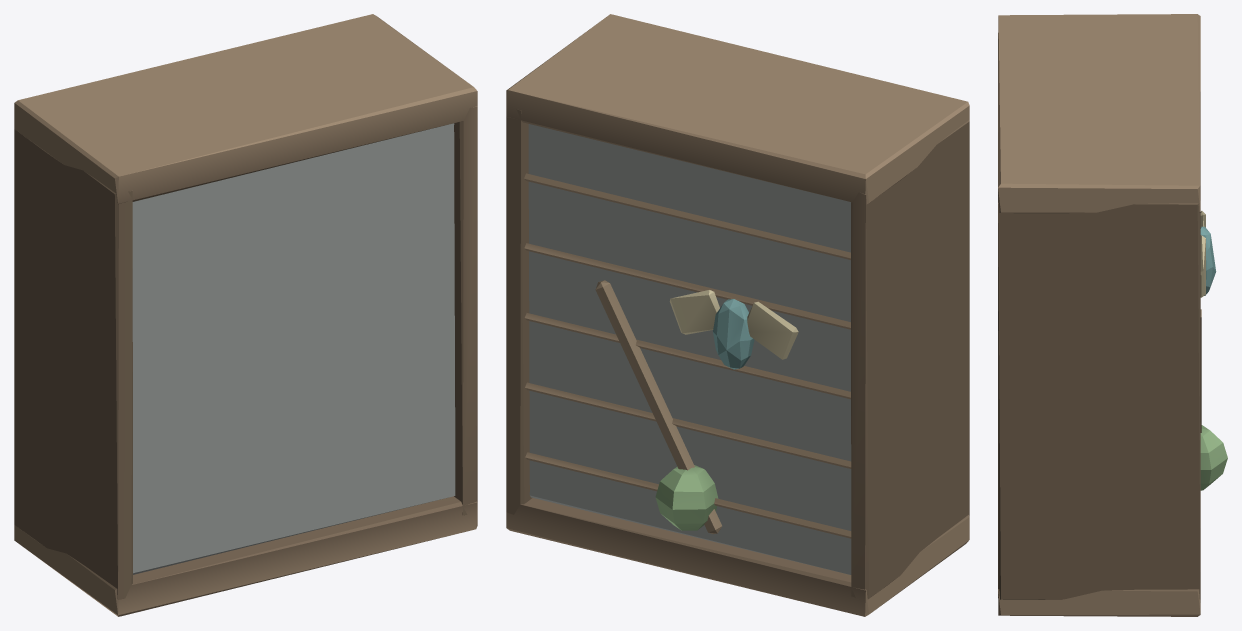
Rendered from furn_insect_case__walnut_low.glb.
The picture shows the model from 3 angles, left to right: view 1: azimuth 30°, elevation 25°; view 2: azimuth 150°, elevation 25°; view 3: azimuth 270°, elevation 25°; orthographic projection. The views are drawn at different scales.
Bounding box in the file's own units: 0.6 × 0.7 × 0.3367.
